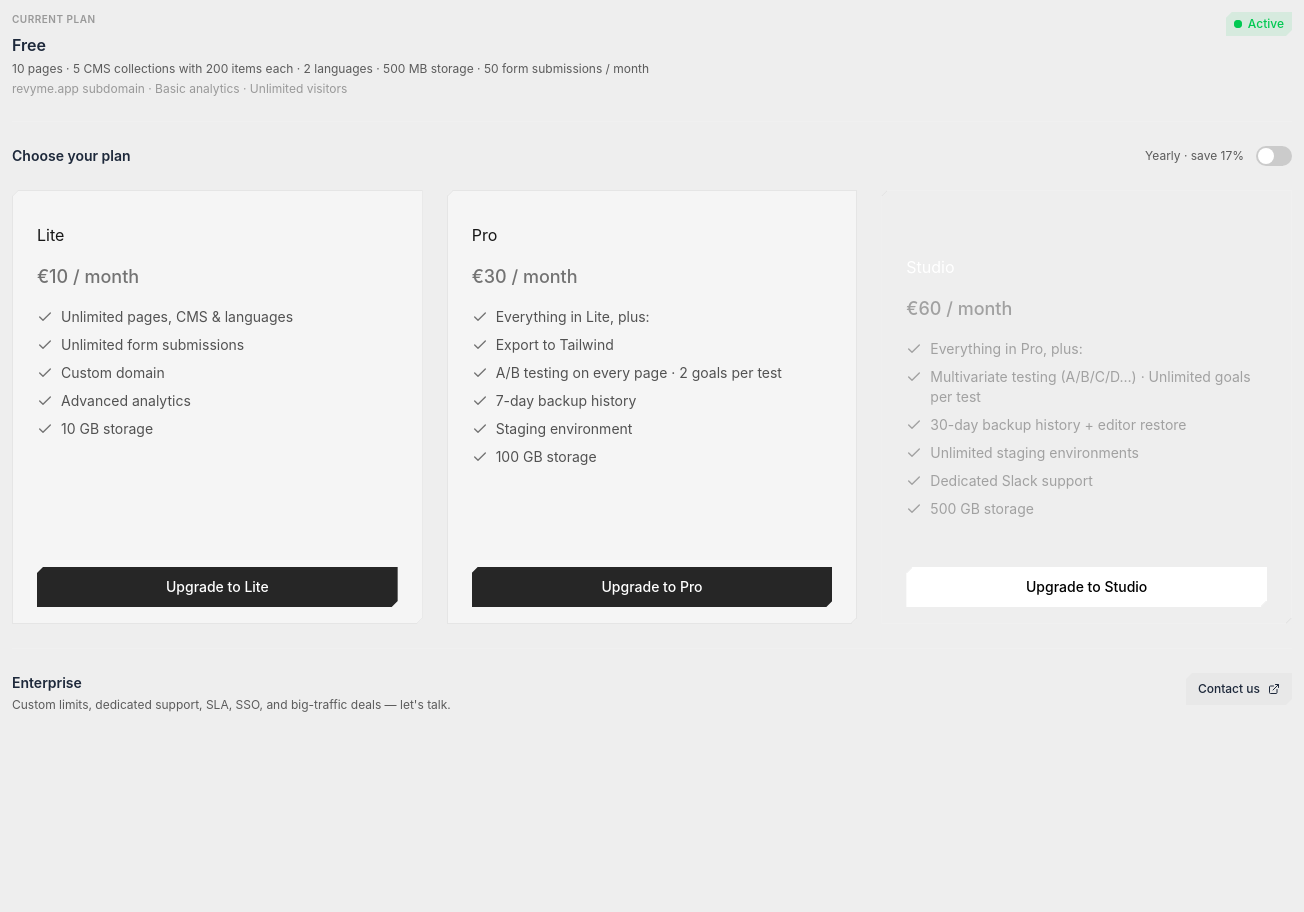
Test: PlansSection — checkout flow › shows inline error banner on 402 response
The image size is (1304, 912).
Expected: the heading "Choose your plan" is shown, [12,146,131,166]
Click the button "Upgrade to Lite" at [217, 587], box [37,567,398,607]
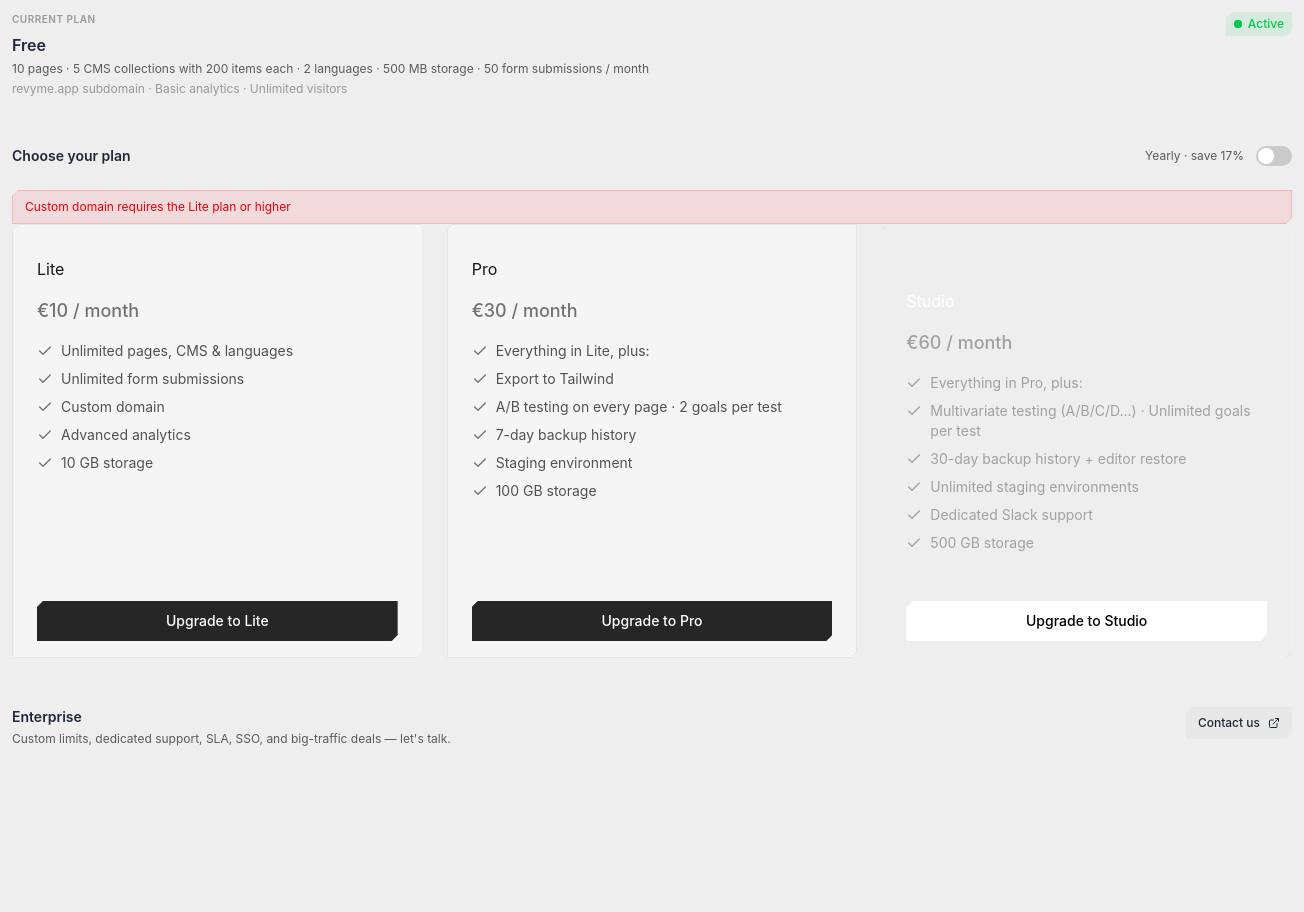
Expected: the text "Custom domain requires the Lite plan or higher" is shown, [12,190,1292,224]
